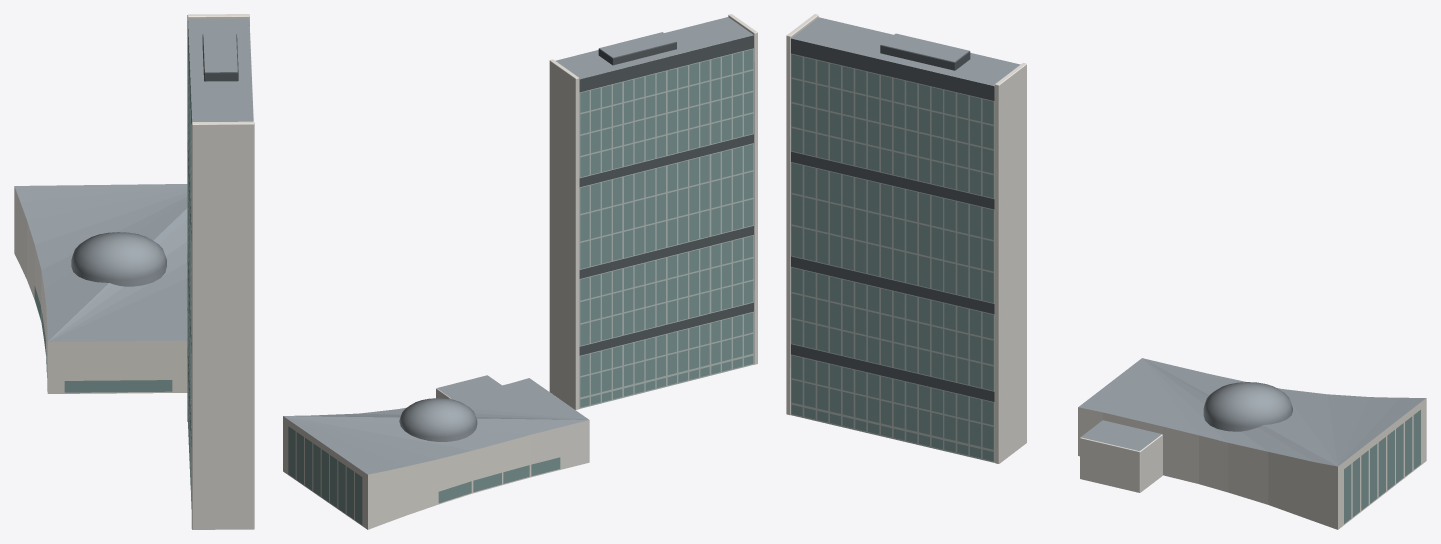
The model's file is detail.glb.
3 renders of one model, left to right at view 1: azimuth 30°, elevation 25°; view 2: azimuth 150°, elevation 25°; view 3: azimuth 270°, elevation 25°, orthographic. The views are drawn at different scales.
Parts seen in each view (by area): view 1: united-nations-headquarters; view 2: united-nations-headquarters; view 3: united-nations-headquarters.
Part boxes in pixels (x1,y1,x2,y2): united-nations-headquarters: (14, 14, 254, 529); united-nations-headquarters: (283, 14, 757, 529); united-nations-headquarters: (786, 14, 1426, 529).
Size of the model in its own units: 121 by 158 by 238.
